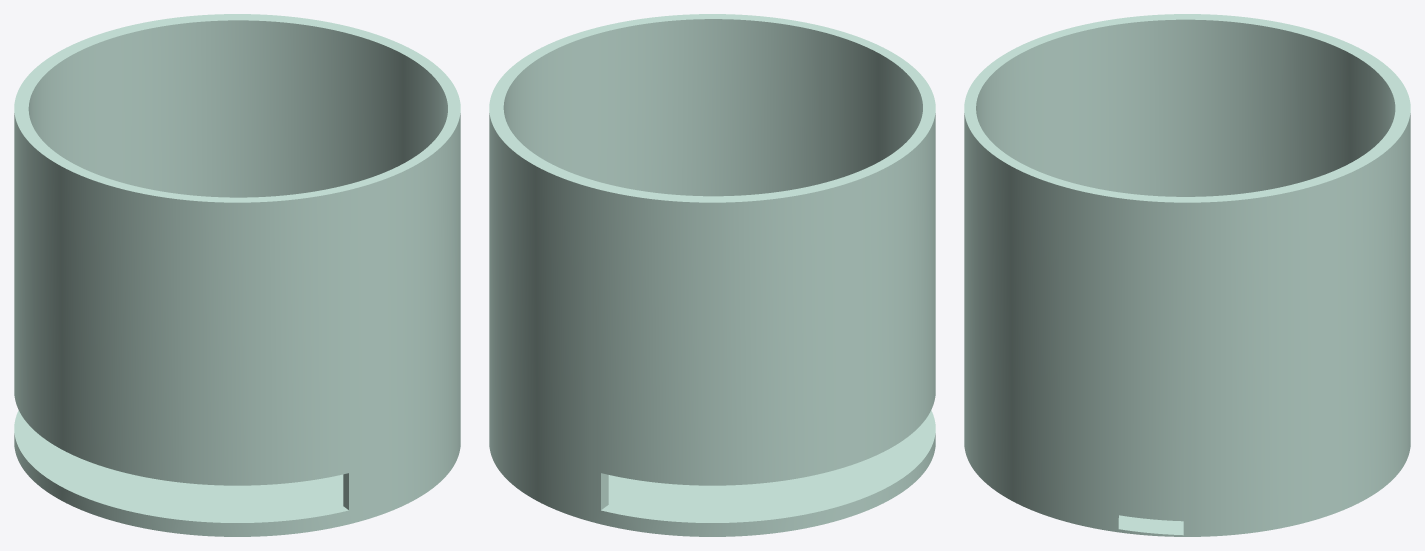
The picture shows the model from 3 angles, left to right: view 1: azimuth 30°, elevation 25°; view 2: azimuth 150°, elevation 25°; view 3: azimuth 270°, elevation 25°; orthographic projection.
Visible parts, largest first — view 1: Renderer Node; view 2: Renderer Node; view 3: Renderer Node.
Part boxes in pixels (x1,y1,x2,y2): Renderer Node: (14,14,460,536); Renderer Node: (489,14,935,536); Renderer Node: (964,14,1410,536).
Size of the model in its own units: 0.9077 by 0.75 by 0.9079.
